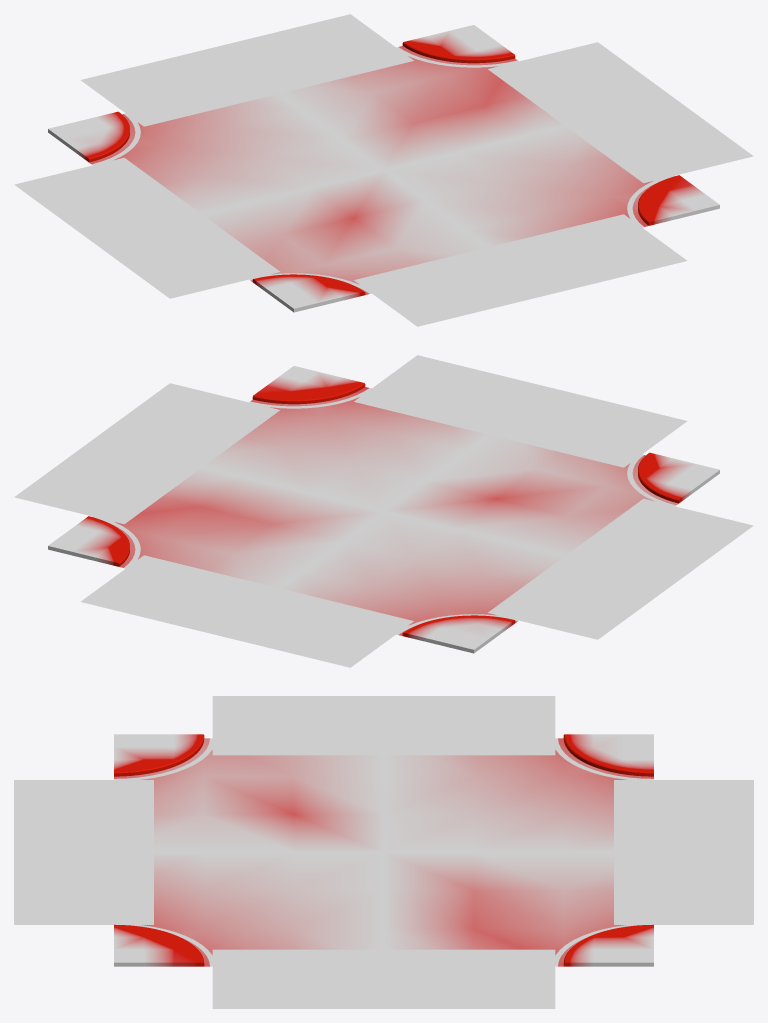
Rendered from Street_4WayIntersection.gltf.
3 renders of one model, top to bottom at view 1: azimuth 30°, elevation 25°; view 2: azimuth 150°, elevation 25°; view 3: azimuth 270°, elevation 25°, orthographic. The views are drawn at different scales.
Visible parts, largest first — view 1: Street_4WayIntersection; view 2: Street_4WayIntersection; view 3: Street_4WayIntersection.
Part boxes in pixels (x1,y1,x2,y2): Street_4WayIntersection: (14,14,753,326); Street_4WayIntersection: (14,355,753,667); Street_4WayIntersection: (14,696,753,1008).
Bounding box in the file's own units: 24.67 × 0.15 × 24.67.
